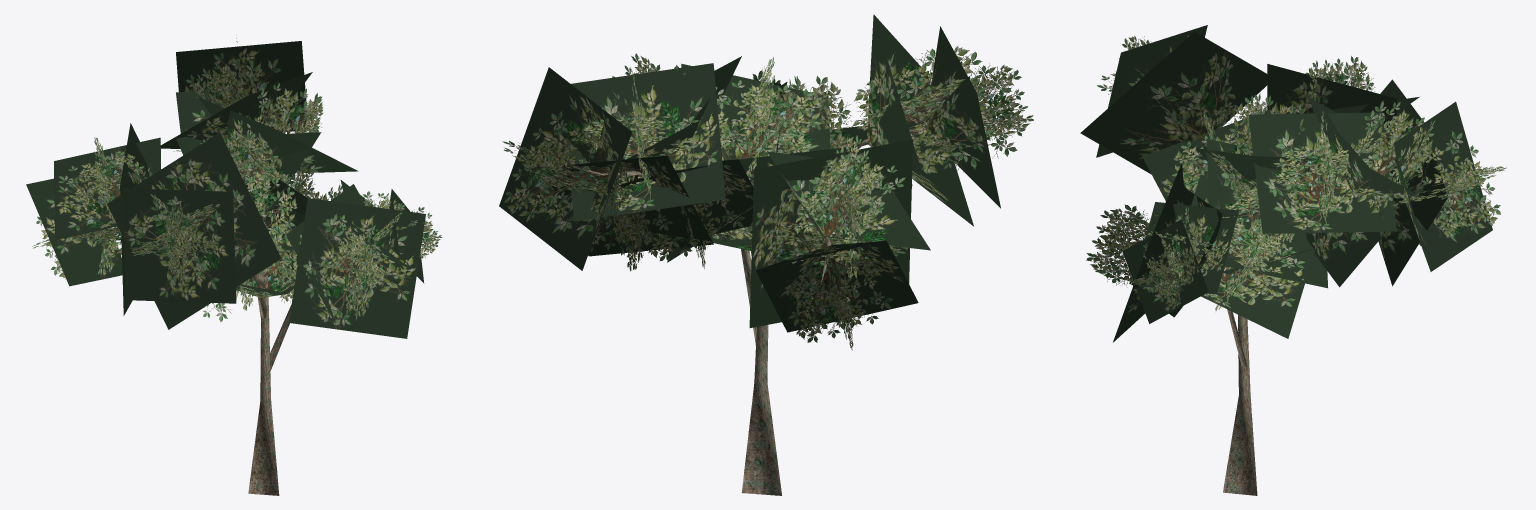
The model's file is decd_dogwoodtreeleaves_a2_l2.fbx.
The picture shows the model from 3 angles, left to right: view 1: azimuth 30°, elevation 25°; view 2: azimuth 150°, elevation 25°; view 3: azimuth 270°, elevation 25°; orthographic projection. The views are drawn at different scales.
Visible parts, largest first — view 1: mesh_node; view 2: mesh_node; view 3: mesh_node.
Boxes of the visible parts, bbox=[...] form: mesh_node: bbox=[26, 38, 442, 495]; mesh_node: bbox=[499, 14, 1033, 495]; mesh_node: bbox=[1080, 25, 1506, 495].
Bounding box in the file's own units: 16.48 × 18.6 × 17.75.
